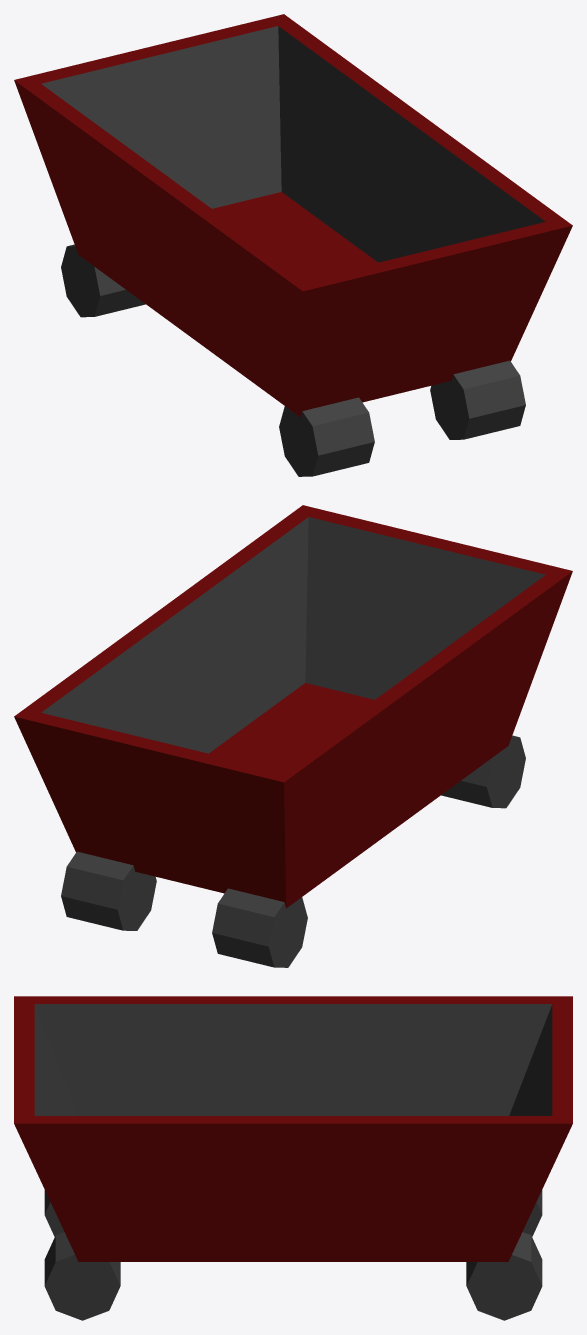
The model's file is cart.fbx.
The picture shows the model from 3 angles, top to bottom: view 1: azimuth 30°, elevation 25°; view 2: azimuth 150°, elevation 25°; view 3: azimuth 270°, elevation 25°; orthographic projection. The views are drawn at different scales.
Visible parts, largest first — view 1: cart, wheels; view 2: cart, wheels; view 3: cart, wheels.
Boxes of the visible parts, x1=… form: cart: x1=14, y1=14, x2=572, y2=417; wheels: x1=61, y1=244, x2=525, y2=476; cart: x1=14, y1=505, x2=572, y2=908; wheels: x1=61, y1=735, x2=525, y2=967; cart: x1=14, y1=996, x2=572, y2=1261; wheels: x1=44, y1=1190, x2=542, y2=1320.
Bounding box in the file's own units: 143 × 111 × 265.
